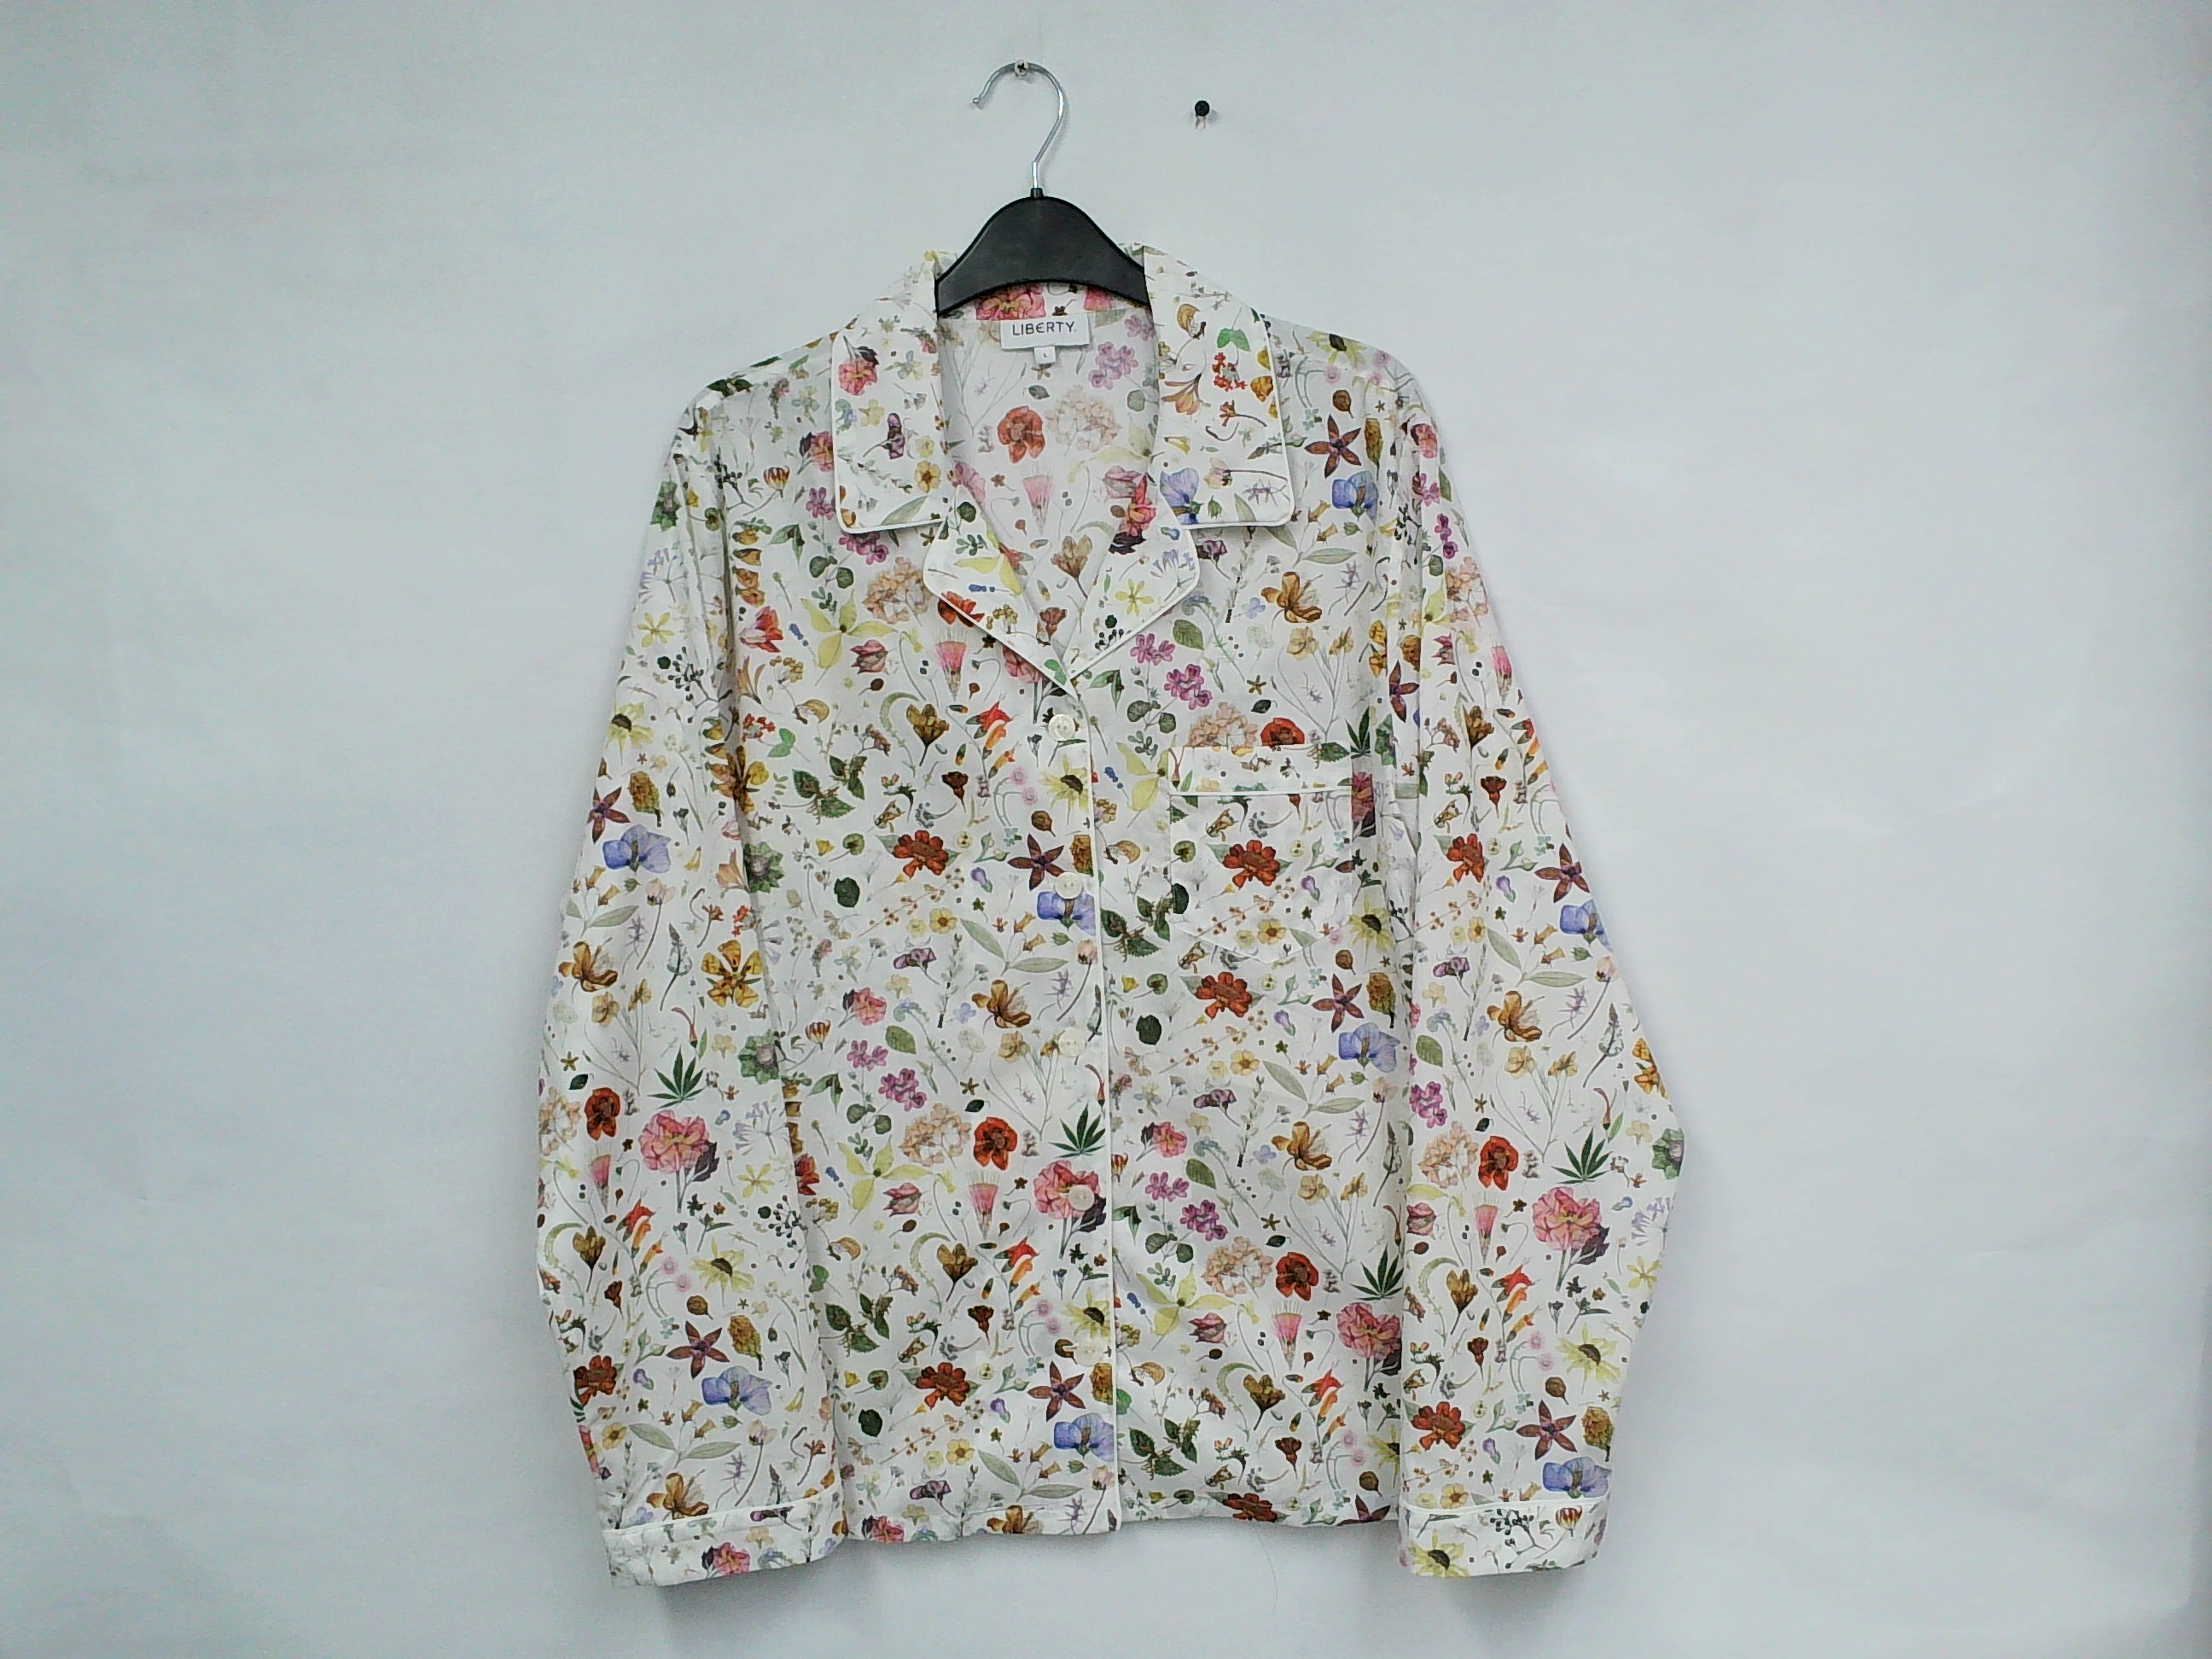seam: (1139, 1452, 1275, 1560)
